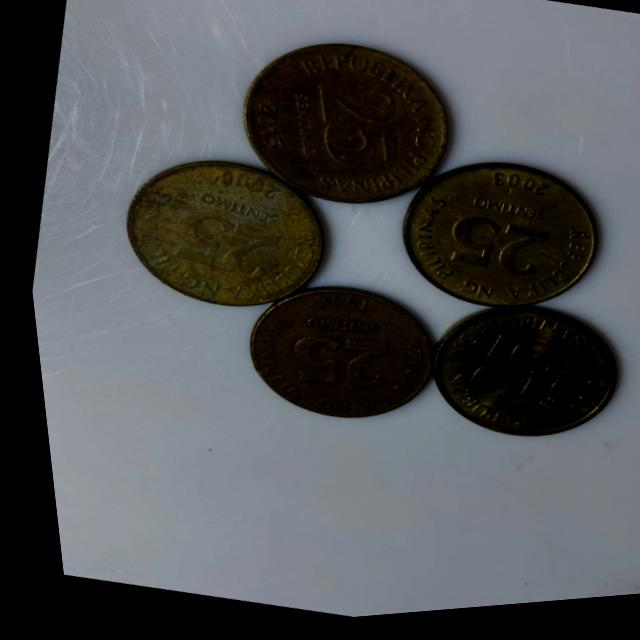25Cent_Old_Front: (284, 68, 423, 187), (430, 201, 553, 294), (158, 204, 281, 291), (450, 331, 554, 426), (269, 320, 386, 404)
